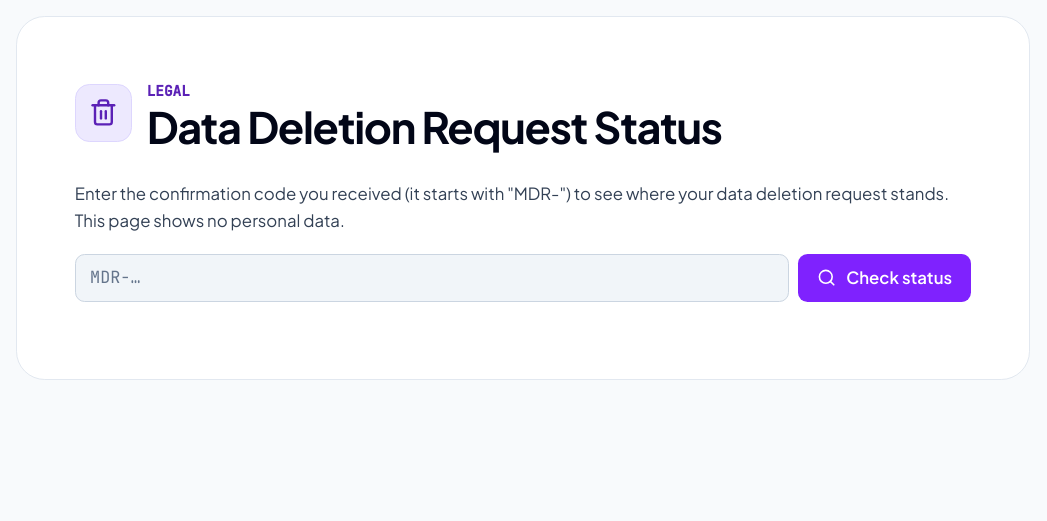
Test case: deletion status page › looks up the code and shows the state without personal data
Type "MDR-abcdefghijklmnop" into the field named "Confirmation code" at (432, 278), box [75, 254, 789, 302]
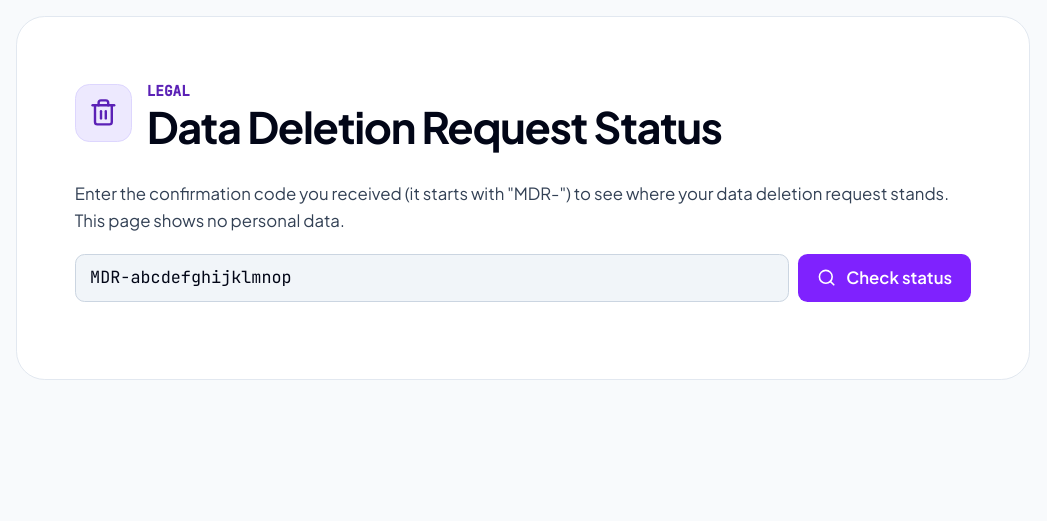
Click the button "Check status" at (885, 278), box [798, 254, 971, 302]
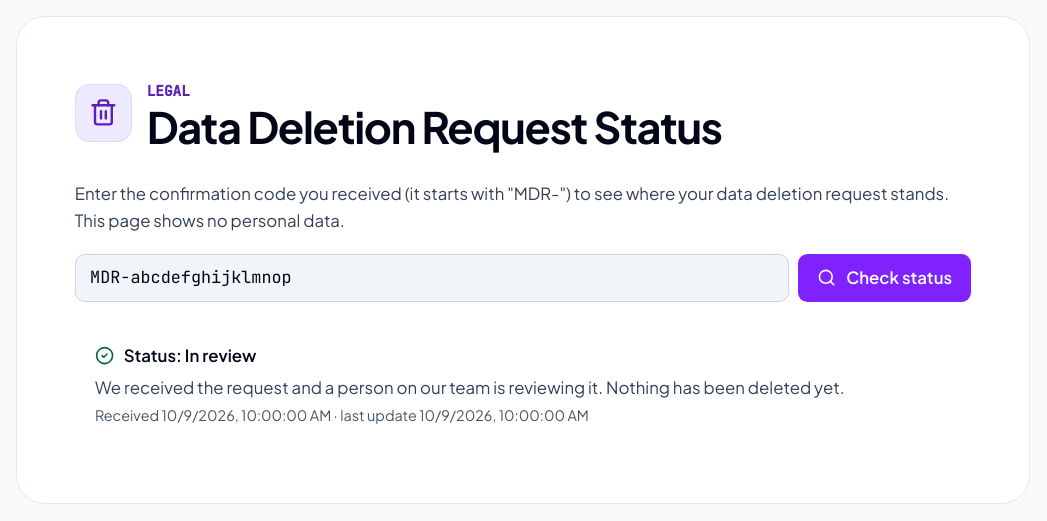
Result: the text "Status: In review" is shown at [95, 345, 256, 366]
